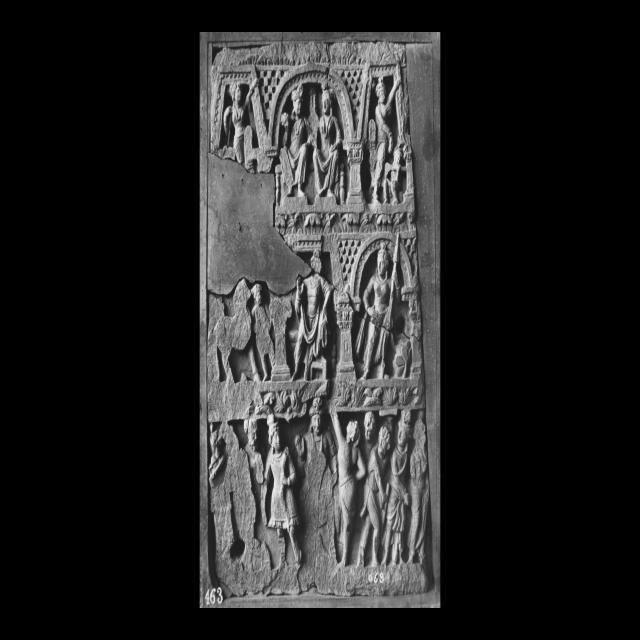buddha-sitting: (292, 249, 334, 380)
